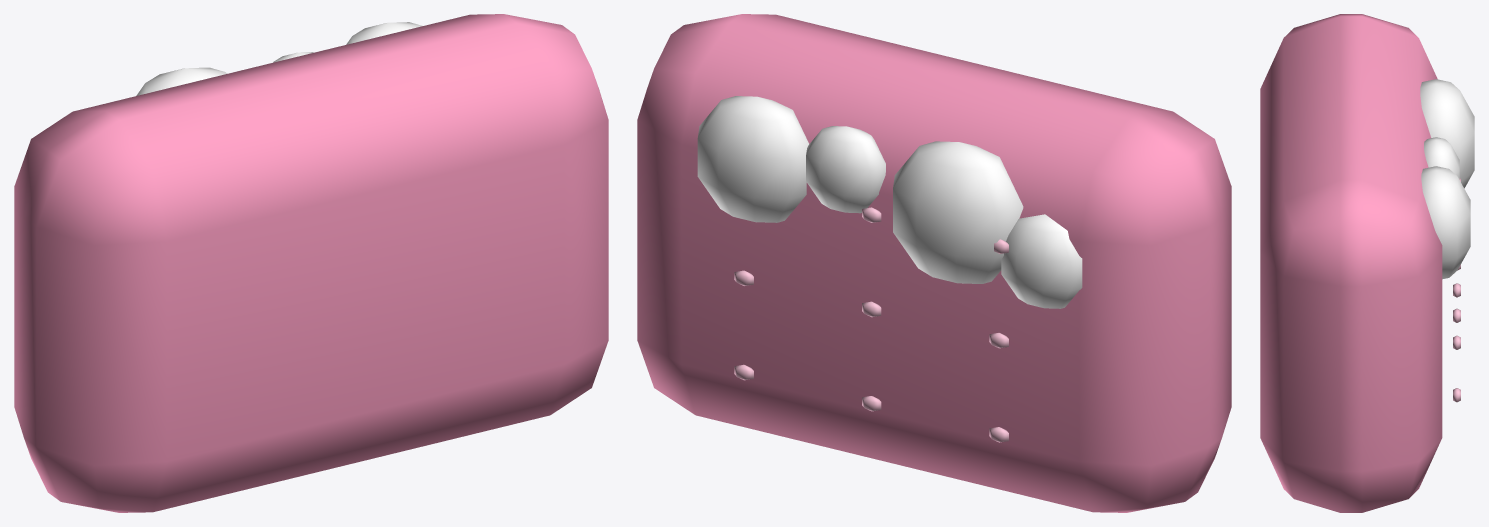
Rendered from foam_sponge.glb.
3 renders of one model, left to right at view 1: azimuth 30°, elevation 25°; view 2: azimuth 150°, elevation 25°; view 3: azimuth 270°, elevation 25°, orthographic. The views are drawn at different scales.
Visible parts, largest first — view 1: Body; view 2: Body; view 3: Body.
Boxes of the visible parts, x1,y1,x2,y2 form: Body: [14, 14, 608, 512]; Body: [637, 14, 1231, 512]; Body: [1260, 14, 1474, 512].
Bounding box in the file's own units: 0.15 × 0.1 × 0.0589.
Materials: 3 (3 with a texture image).
